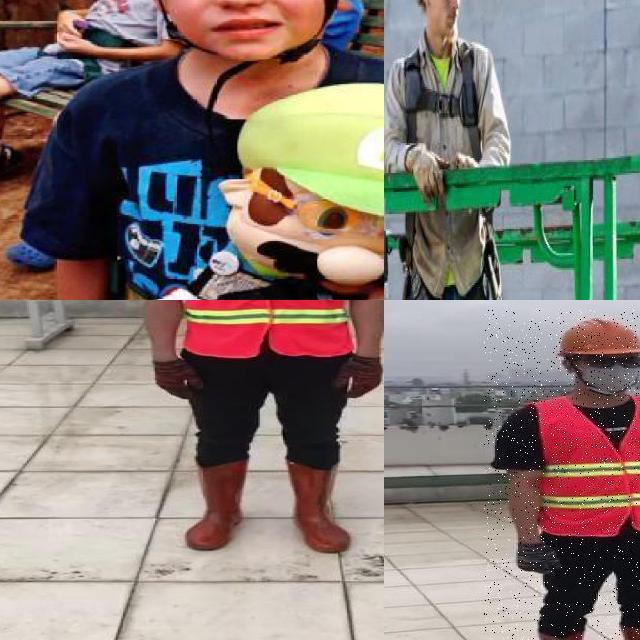Harness: (404, 45, 480, 160)
boots: (284, 461, 350, 553), (187, 461, 246, 551)
face_nomask: (154, 0, 326, 47)
glasses: (279, 181, 384, 258)
hand_glove: (150, 355, 208, 401), (332, 357, 384, 399)
head_helmet: (549, 315, 640, 357)
person: (49, 0, 384, 300), (148, 300, 384, 556), (484, 310, 640, 640)
vest: (532, 397, 640, 537), (174, 300, 357, 355)
